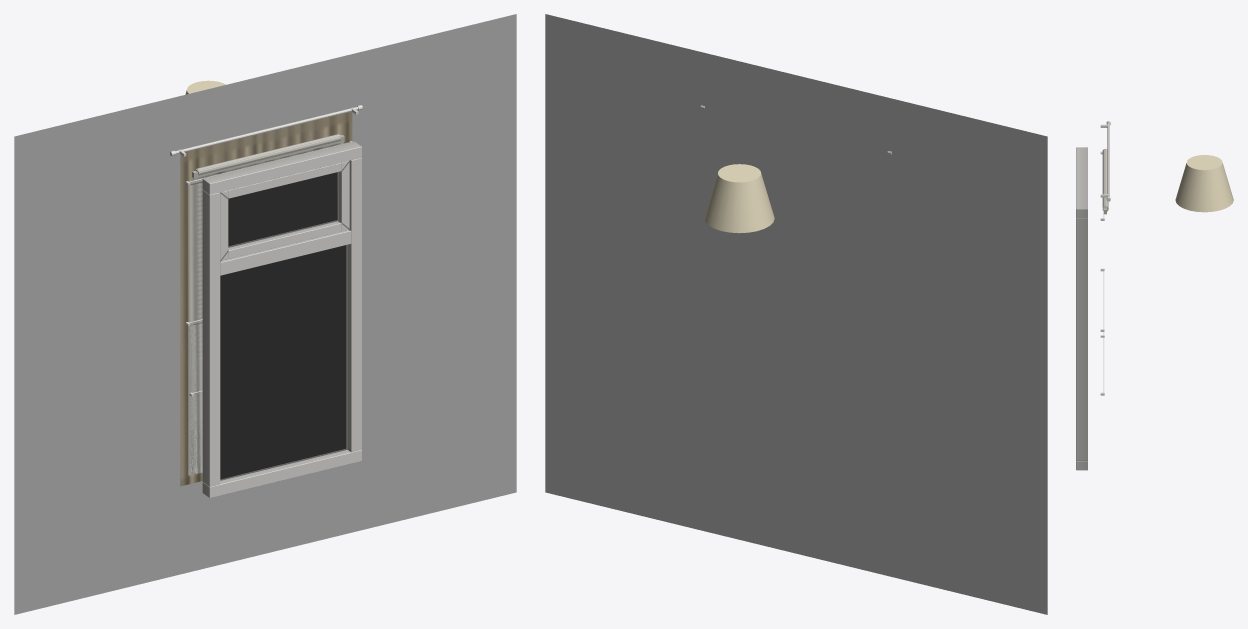
The picture shows the model from 3 angles, left to right: view 1: azimuth 30°, elevation 25°; view 2: azimuth 150°, elevation 25°; view 3: azimuth 270°, elevation 25°; orthographic projection. The views are drawn at different scales.
Visible parts, largest first — view 1: room__card, glass__lower, curtain__C1_drawn, paint_joinery__frame_jamb_L, glass__top, net__N2, paint_joinery__frame_jamb_R, paint_joinery__frame_head_rail, curtain__C2_open_L, paint_joinery__frame_sill_rail, net__N1, paint_joinery__transom (+7 smaller); view 2: room__card, pendant__shade; view 3: paint_joinery__frame_jamb_R, pendant__shade, paint_joinery__frame_head_rail, blind_roller__B2.
Part boxes in pixels (x1,y1,x2,y2): room__card: (14,14,516,614); glass__lower: (220,245,346,479); curtain__C1_drawn: (180,111,352,486); paint_joinery__frame_jamb_L: (202,190,220,486); glass__top: (228,172,337,246); net__N2: (188,142,349,474); paint_joinery__frame_jamb_R: (347,158,361,452); paint_joinery__frame_head_rail: (202,141,361,194); curtain__C2_open_L: (180,146,210,484); paint_joinery__frame_sill_rail: (202,449,361,497); net__N1: (188,319,202,475); paint_joinery__transom: (220,229,351,275); room__card: (545,14,1047,614); pendant__shade: (704,164,774,233); paint_joinery__frame_jamb_R: (1076,218,1087,460); pendant__shade: (1175,155,1233,212); paint_joinery__frame_head_rail: (1076,147,1087,218); blind_roller__B2: (1102,148,1108,211).
Bounding box in the file's own units: 2.8 × 2.55 × 0.9175.
Materials: 7 (3 with a texture image).
